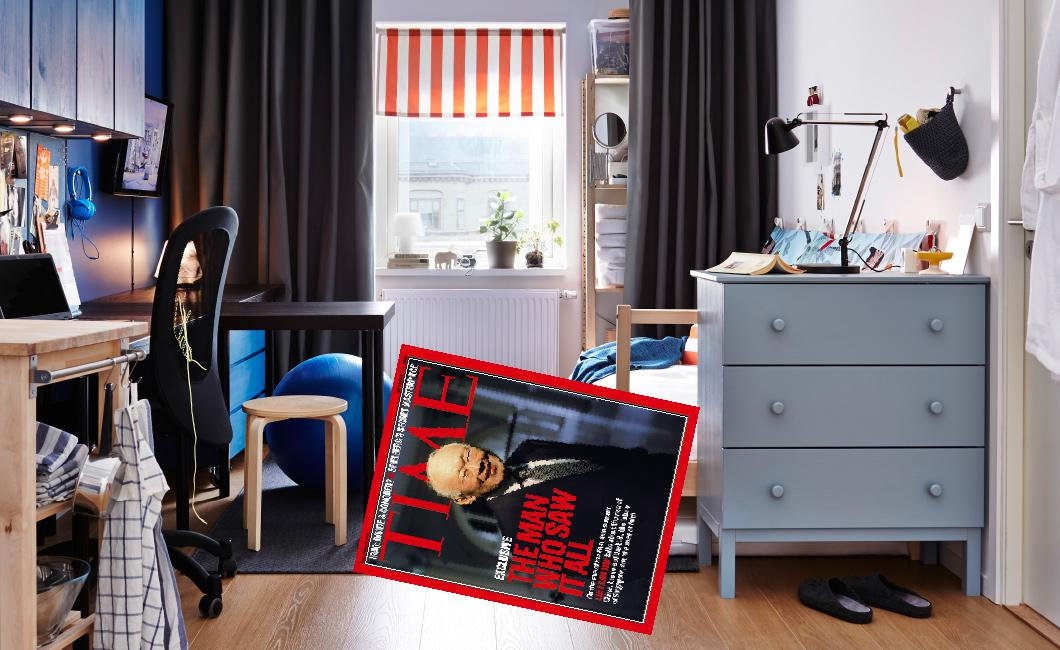times: (351, 342, 704, 637)
